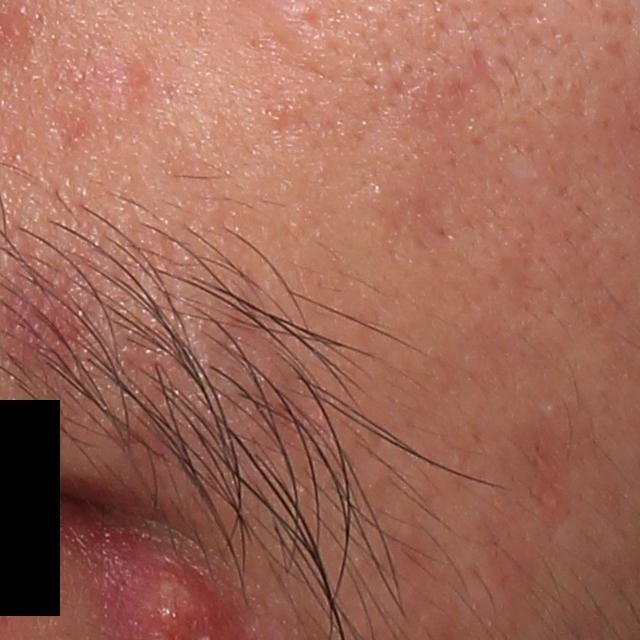atrophic_scar: (419, 47, 507, 123), (356, 80, 415, 162)
papule: (93, 47, 154, 112)
